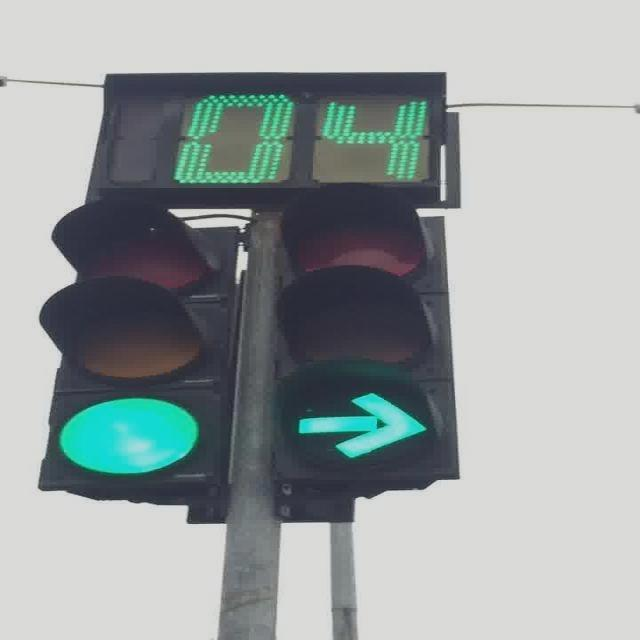Green: (34, 198, 238, 489), (266, 182, 459, 480)
